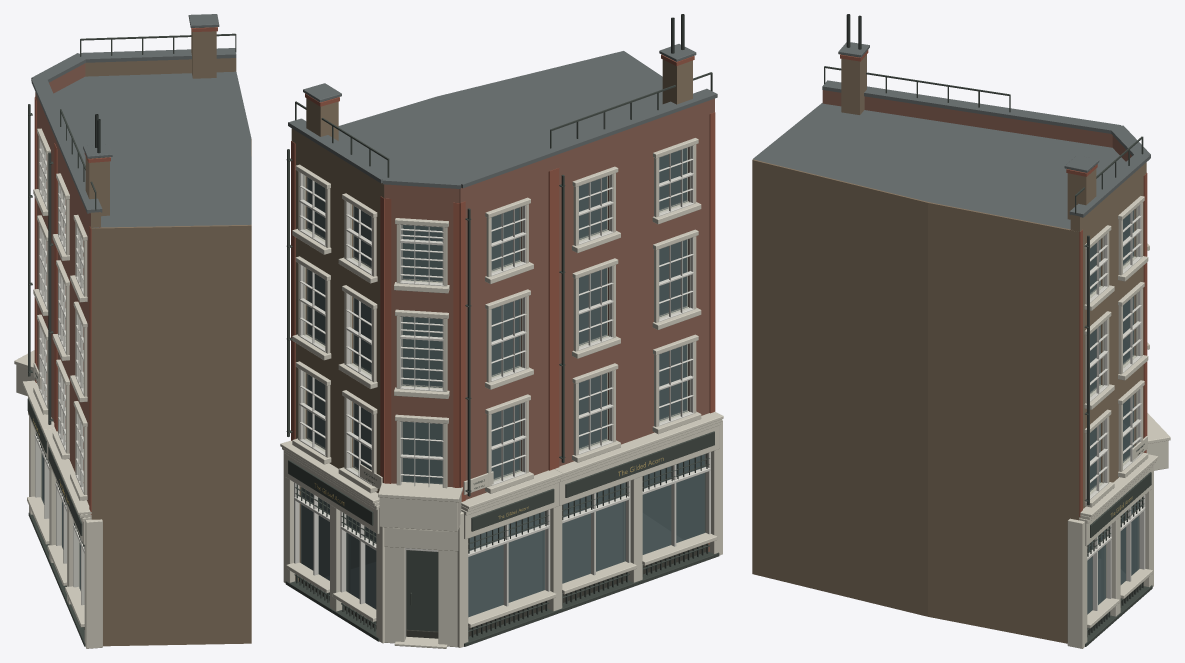
File: por-exterior-4518b015d4c0.glb
The picture shows the model from 3 angles, left to right: view 1: azimuth 30°, elevation 25°; view 2: azimuth 150°, elevation 25°; view 3: azimuth 270°, elevation 25°; orthographic projection. The views are drawn at different scales.
Visible parts, largest first — view 1: POR.001; view 2: POR.001; view 3: POR.001.
Part boxes in pixels (bbox=[...]): POR.001: bbox=[14, 14, 251, 648]; POR.001: bbox=[280, 14, 723, 648]; POR.001: bbox=[752, 14, 1170, 648].
Bounding box in the file's own units: 10.36 × 17.58 × 13.1.
